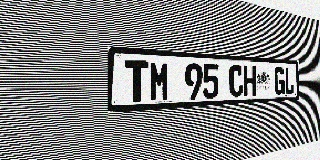5: (203, 64, 219, 99)
9: (185, 63, 202, 100)
C: (229, 65, 243, 97)
G: (274, 67, 284, 95)
H: (243, 65, 256, 97)
L: (285, 67, 294, 94)
M: (149, 61, 170, 102)
T: (125, 60, 148, 103)
